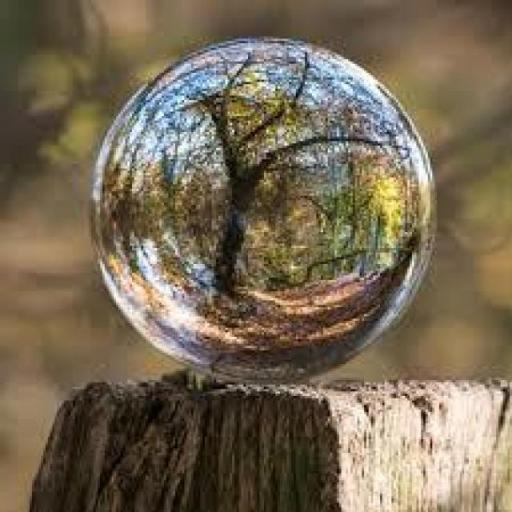glass: (79, 22, 451, 402)
